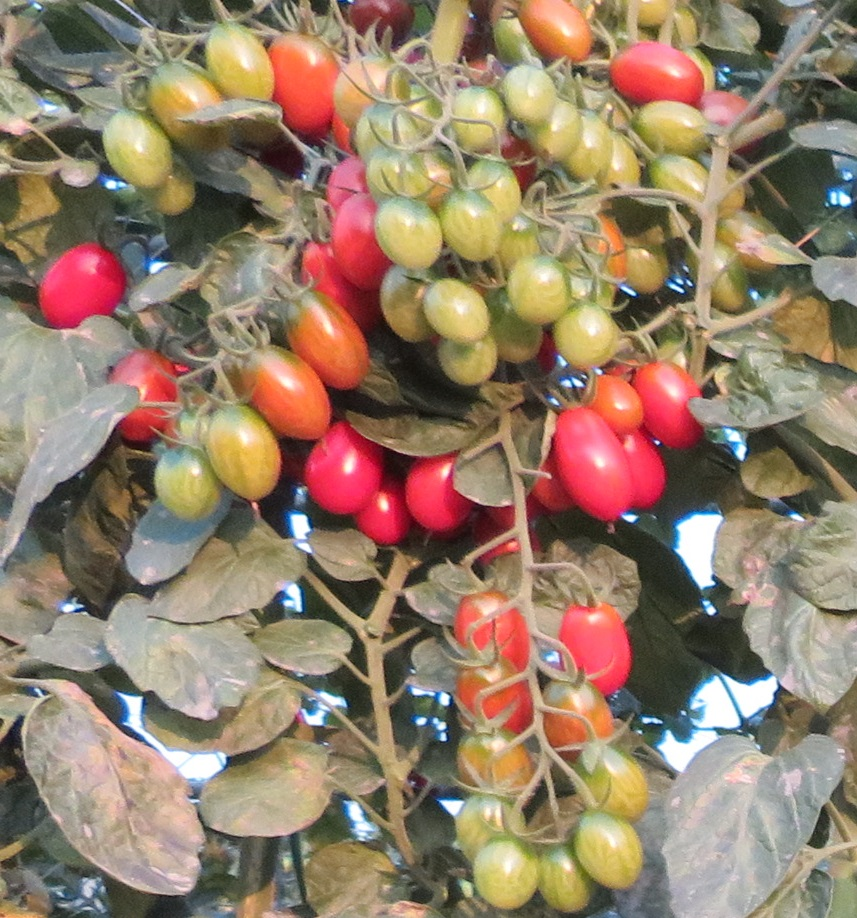green: (206, 400, 280, 505), (575, 808, 657, 891), (569, 740, 664, 811), (98, 107, 172, 191), (208, 18, 272, 108), (151, 441, 213, 520), (507, 252, 576, 321), (379, 199, 444, 271), (153, 51, 211, 130), (455, 729, 538, 784), (472, 838, 541, 904), (422, 287, 500, 343), (647, 149, 719, 207), (557, 304, 621, 367), (441, 196, 505, 259), (455, 794, 528, 849), (354, 105, 436, 153), (637, 102, 712, 153), (507, 63, 560, 124), (436, 338, 497, 390), (572, 109, 615, 182), (541, 850, 589, 913), (451, 83, 494, 152), (623, 235, 670, 298), (542, 94, 583, 160), (602, 126, 639, 192), (374, 168, 434, 200)
orange: (238, 339, 342, 440), (291, 285, 372, 388), (111, 347, 187, 442), (269, 30, 337, 132), (451, 655, 538, 721), (549, 681, 617, 744), (459, 595, 530, 655), (533, 1, 594, 63), (595, 374, 641, 424)
red: (550, 407, 631, 526), (34, 243, 133, 323), (551, 602, 638, 682), (303, 423, 377, 515), (605, 45, 709, 108), (641, 362, 705, 444), (403, 454, 468, 529), (330, 192, 386, 278), (632, 437, 671, 510), (355, 487, 403, 545)
